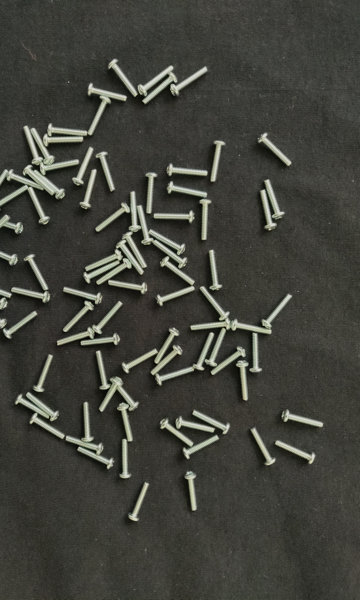longscrew: (107, 58, 140, 100), (170, 66, 210, 100), (141, 71, 179, 106), (257, 132, 294, 167), (274, 438, 317, 467), (261, 293, 294, 330), (137, 65, 175, 97), (94, 202, 131, 234), (159, 256, 197, 287), (199, 284, 230, 322), (148, 227, 188, 256), (21, 164, 56, 197), (91, 301, 124, 336), (191, 408, 232, 436), (210, 346, 247, 377), (151, 239, 189, 269), (249, 427, 277, 467), (109, 377, 141, 412), (86, 95, 112, 138), (115, 240, 146, 276), (159, 418, 195, 449), (2, 311, 39, 341), (25, 392, 61, 422), (95, 258, 132, 287), (22, 253, 50, 291), (83, 259, 121, 287), (121, 347, 159, 375), (62, 301, 94, 334), (150, 345, 183, 377), (32, 169, 66, 200), (26, 185, 51, 227), (28, 413, 66, 440), (183, 434, 221, 461), (122, 231, 148, 270), (14, 393, 51, 420), (72, 145, 95, 188), (263, 178, 286, 221), (154, 327, 180, 365), (94, 151, 117, 193), (128, 481, 151, 523), (98, 376, 124, 413), (76, 447, 116, 471), (30, 127, 55, 165), (22, 124, 44, 167), (83, 249, 124, 272), (155, 286, 196, 309), (193, 331, 216, 372), (64, 434, 105, 457), (6, 169, 45, 193), (205, 327, 227, 369), (281, 409, 325, 430), (55, 326, 96, 348), (155, 365, 196, 387), (86, 82, 128, 103), (258, 189, 278, 232), (33, 353, 54, 393), (10, 285, 51, 305), (62, 286, 103, 306), (80, 169, 99, 212), (166, 181, 209, 200), (0, 184, 29, 212), (229, 319, 274, 337), (209, 140, 227, 184), (175, 416, 216, 435), (38, 158, 80, 176), (136, 204, 154, 246), (94, 350, 112, 391), (117, 402, 135, 443), (166, 162, 209, 179), (208, 249, 225, 292), (189, 316, 232, 333), (107, 279, 149, 295), (199, 199, 214, 242), (235, 360, 250, 403), (184, 470, 199, 512), (145, 171, 159, 215), (47, 123, 88, 138), (81, 401, 95, 444), (249, 333, 263, 375), (119, 438, 133, 480), (80, 333, 121, 347), (128, 190, 141, 234), (152, 211, 196, 224), (43, 134, 84, 147), (0, 214, 24, 236), (0, 243, 19, 268), (0, 213, 11, 247), (0, 169, 9, 206), (0, 277, 13, 301), (0, 298, 7, 330), (0, 289, 7, 311)
